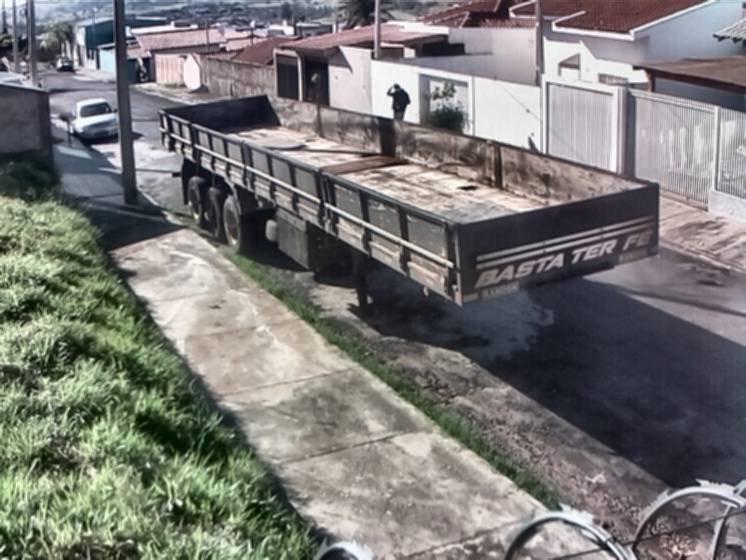person: (386, 82, 410, 123)
